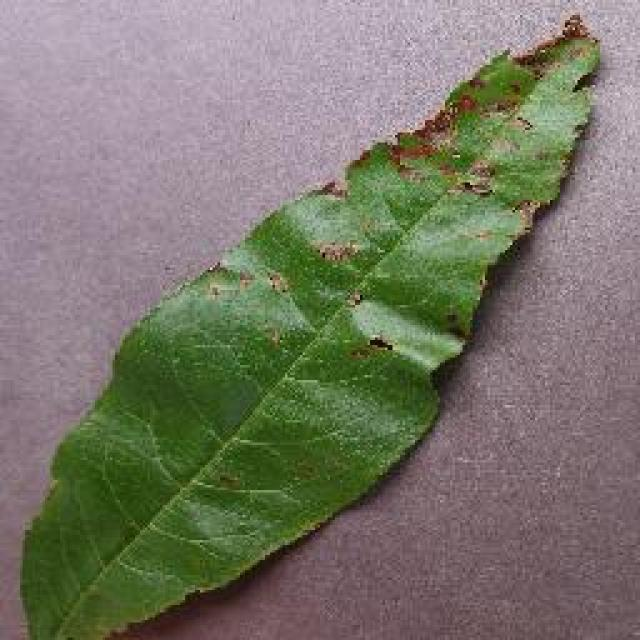Peach_Bacterial_Spot: (290, 162, 525, 372)
